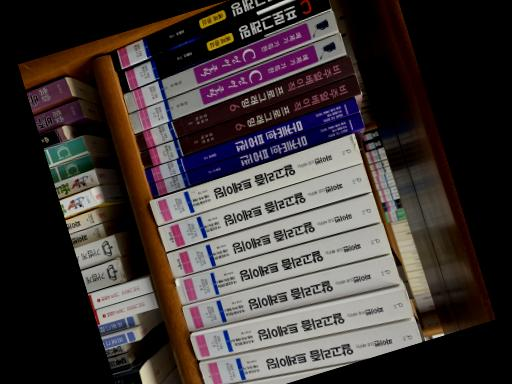book-spine: (122, 10, 338, 114), (127, 33, 345, 134), (134, 55, 355, 151), (138, 76, 361, 169), (116, 0, 331, 94), (147, 134, 362, 226), (156, 163, 371, 253), (143, 98, 359, 184), (147, 113, 363, 199), (165, 193, 380, 279), (173, 223, 390, 306), (181, 255, 400, 332), (189, 289, 413, 361), (198, 320, 420, 384), (109, 0, 282, 72)
